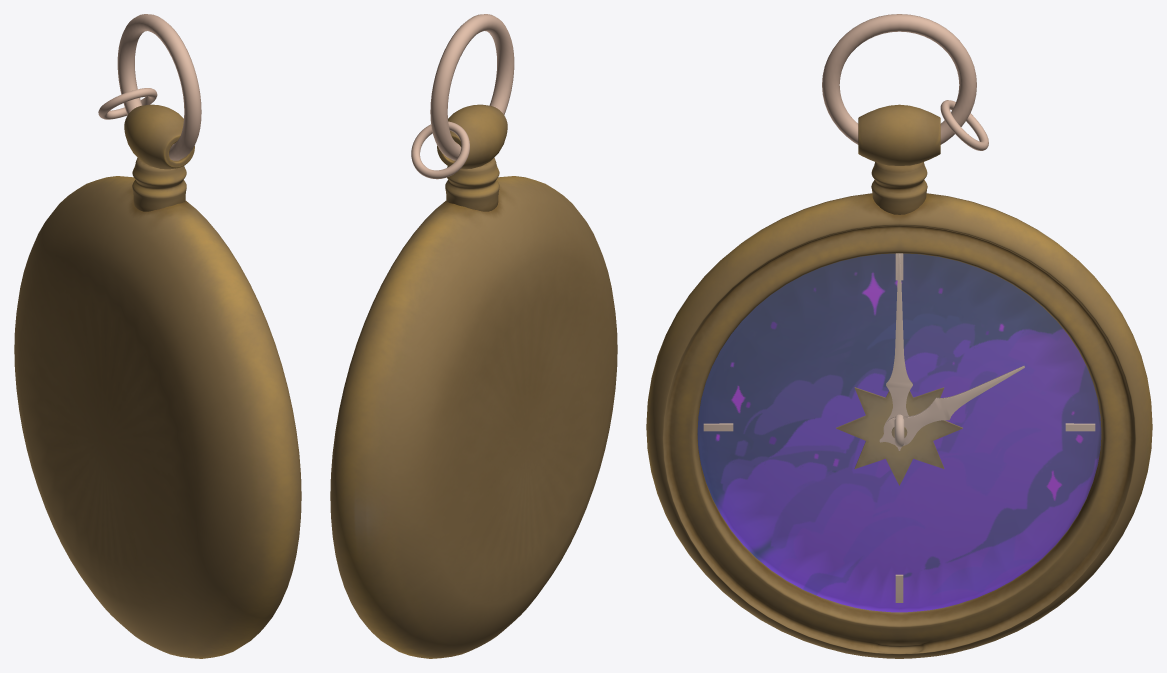
The model's file is watch.glb.
3 renders of one model, left to right at view 1: azimuth 30°, elevation 25°; view 2: azimuth 150°, elevation 25°; view 3: azimuth 270°, elevation 25°, orthographic. The views are drawn at different scales.
Visible parts, largest first — view 1: kello, BézierCircle.002, Cylinder.002, Cylinder.001, BézierCircle.001; view 2: kello, BézierCircle.002, Cylinder.002, Cylinder.001, BézierCircle.001; view 3: kello, Sphere, BézierCircle.002, tauluntausta, Cylinder.002, Cylinder.001, viisari_piwni, viisari_iso, BézierCircle.001.
Boxes of the visible parts, x1,y1,x2,y2 form: kello: (14, 176, 301, 658); BézierCircle.002: (117, 14, 201, 160); Cylinder.002: (124, 104, 194, 169); Cylinder.001: (132, 157, 186, 211); BézierCircle.001: (98, 88, 157, 119); kello: (330, 176, 617, 658); BézierCircle.002: (430, 14, 514, 160); Cylinder.002: (437, 104, 507, 169); Cylinder.001: (445, 157, 499, 211); BézierCircle.001: (411, 121, 469, 179); kello: (646, 193, 1152, 658); Sphere: (698, 253, 1100, 612); BézierCircle.002: (822, 14, 976, 144); tauluntausta: (836, 387, 962, 485); Cylinder.002: (858, 104, 940, 165); Cylinder.001: (871, 162, 927, 214); viisari_piwni: (879, 365, 1024, 445); viisari_iso: (883, 253, 912, 450); BézierCircle.001: (940, 100, 988, 150).
Size of the model in its own units: 0.4247 by 2.78 by 1.99.
8 materials, 4 textured.
